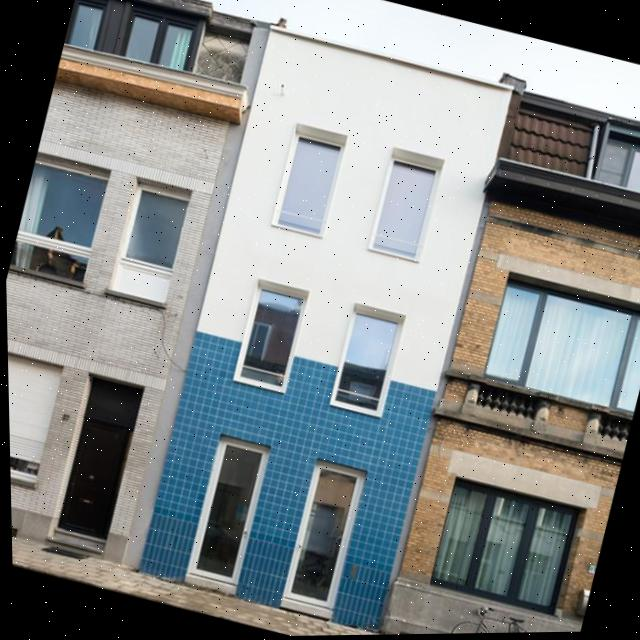building: (124, 17, 526, 638), (0, 0, 286, 574), (365, 74, 640, 635)
